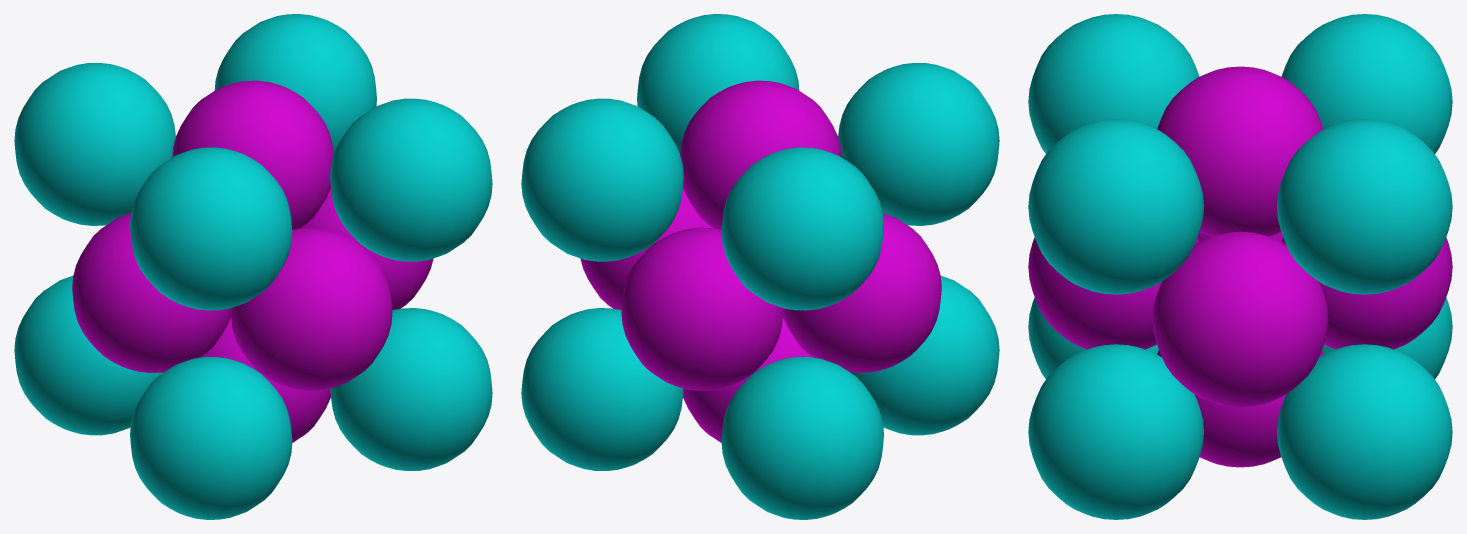
File: huecosfcc_centrado.glb
3 views of the same model, side by side, from view 1: azimuth 30°, elevation 25°; view 2: azimuth 150°, elevation 25°; view 3: azimuth 270°, elevation 25° (orthographic). The views are drawn at different scales.
Visible parts, largest first — view 1: atomo15; view 2: atomo15; view 3: atomo15.
Boxes of the visible parts, x1,y1,x2,y2 form: atomo15: [14, 14, 492, 519]; atomo15: [521, 14, 999, 519]; atomo15: [1028, 14, 1452, 519].
Bounding box in the file's own units: 1.71 × 1.71 × 1.71.
